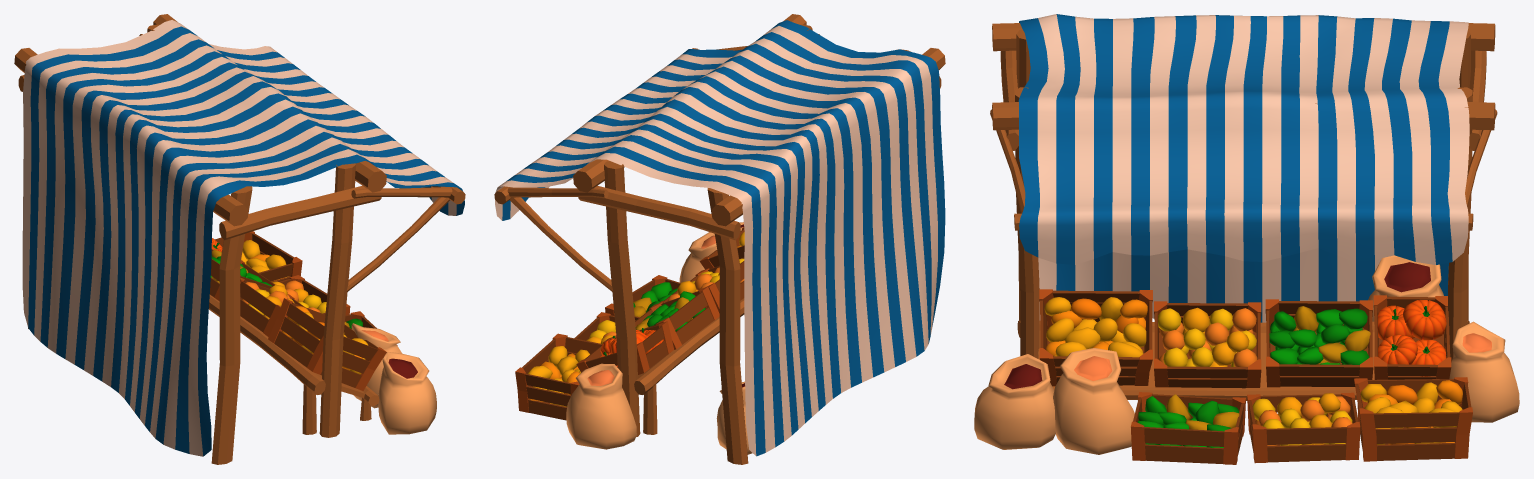
File: farm.glb
The picture shows the model from 3 angles, left to right: view 1: azimuth 30°, elevation 25°; view 2: azimuth 150°, elevation 25°; view 3: azimuth 270°, elevation 25°; orthographic projection. The views are drawn at different scales.
Parts seen in each view (by area): view 1: Cube.057; view 2: Cube.057; view 3: Cube.057.
Part boxes in pixels (<box>): Cube.057: <box>14,14,465,464</box>; Cube.057: <box>494,14,945,464</box>; Cube.057: <box>974,14,1519,464</box>.
Size of what is drawn, in the model's own units: 1.82 by 1.78 by 2.72.
1 material, 1 textured.
